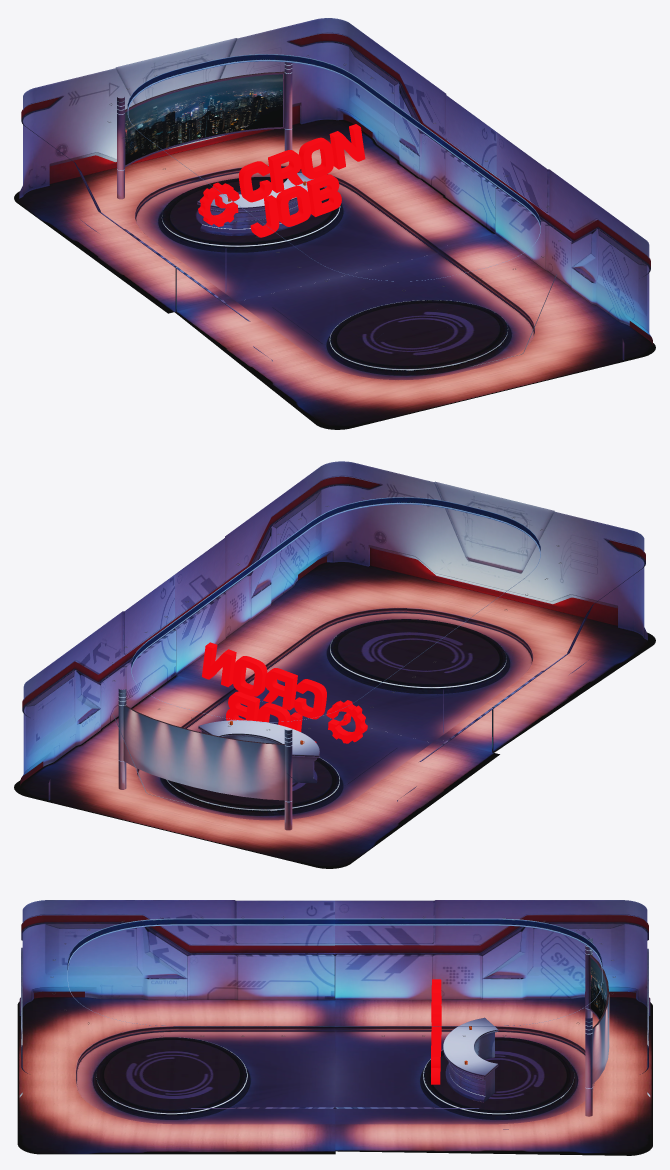
The model's file is cron_red.glb.
The picture shows the model from 3 angles, top to bottom: view 1: azimuth 30°, elevation 25°; view 2: azimuth 150°, elevation 25°; view 3: azimuth 270°, elevation 25°; orthographic projection. The views are drawn at different scales.
Parts seen in each view (by area): view 1: Ground, Walls, Virtual_Studio001_ID_3, CronJob.svg_FillEditPoly, desk, Ceiling; view 2: Ground, Walls, desk, CronJob.svg_FillEditPoly, Ceiling; view 3: Ground, Walls, desk, Ceiling, CronJob.svg_FillEditPoly, Virtual_Studio001_ID_3.
Boxes of the visible parts, left/top/right/bottom form: Ground: left=14, top=119, right=655, bottom=429; Walls: left=19, top=18, right=652, bottom=366; Virtual_Studio001_ID_3: left=125, top=74, right=282, bottom=164; CronJob.svg_FillEditPoly: left=198, top=124, right=365, bottom=237; desk: left=117, top=62, right=313, bottom=235; Ceiling: left=127, top=54, right=540, bottom=281; Ground: left=14, top=562, right=655, bottom=868; Walls: left=20, top=461, right=647, bottom=806; desk: left=118, top=689, right=319, bottom=830; CronJob.svg_FillEditPoly: left=202, top=642, right=367, bottom=743; Ceiling: left=131, top=497, right=540, bottom=722; Ground: left=17, top=997, right=652, bottom=1155; Walls: left=19, top=900, right=650, bottom=1129; desk: left=443, top=938, right=609, bottom=1116; Ceiling: left=67, top=918, right=602, bottom=1026; CronJob.svg_FillEditPoly: left=431, top=979, right=441, bottom=1084; Virtual_Studio001_ID_3: left=590, top=958, right=607, bottom=1018.
Bounding box in the file's own units: 8.56 × 2.76 × 14.4.
9 materials, 5 textured.
